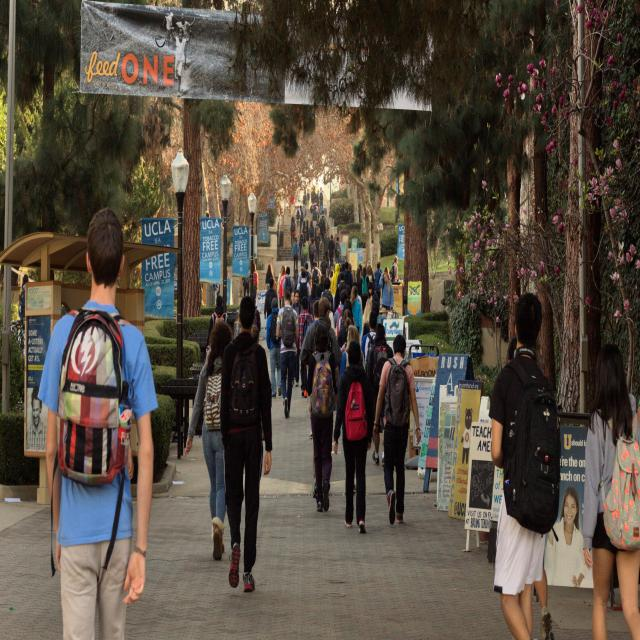body: (35, 202, 159, 640), (487, 289, 563, 640), (581, 339, 640, 640), (218, 295, 273, 595), (184, 320, 233, 562), (372, 331, 423, 529), (300, 296, 346, 499), (333, 339, 376, 539), (544, 486, 588, 588), (366, 321, 395, 470), (275, 288, 300, 421), (336, 256, 400, 296), (525, 563, 556, 640), (264, 296, 284, 399), (338, 324, 366, 394), (295, 296, 314, 397), (26, 385, 48, 451), (206, 294, 229, 356), (234, 296, 261, 342), (291, 290, 303, 388), (361, 311, 378, 374), (18, 274, 29, 352), (336, 308, 354, 350), (333, 290, 352, 328), (379, 270, 394, 316), (360, 298, 372, 352), (350, 285, 362, 338), (264, 277, 278, 322), (321, 292, 336, 334), (338, 298, 356, 332), (296, 270, 312, 306), (321, 277, 335, 318), (282, 266, 295, 307), (199, 279, 220, 304), (305, 300, 319, 336), (360, 267, 370, 316), (373, 262, 382, 313), (500, 340, 520, 362), (331, 263, 340, 311), (311, 286, 322, 322), (277, 265, 285, 310), (278, 265, 286, 307), (313, 228, 321, 270), (291, 237, 300, 274), (312, 451, 318, 502), (311, 261, 322, 288), (288, 216, 297, 248), (308, 282, 317, 314), (323, 229, 330, 270), (301, 237, 309, 271), (388, 255, 398, 282), (318, 215, 326, 248), (367, 282, 379, 304), (264, 264, 274, 290), (308, 238, 316, 270), (343, 261, 353, 286), (304, 262, 312, 292), (334, 237, 342, 264), (320, 254, 329, 278), (253, 263, 258, 305), (310, 199, 320, 220), (298, 234, 304, 268), (328, 234, 335, 263), (295, 205, 301, 237), (297, 266, 308, 283), (372, 296, 382, 314), (318, 187, 324, 216), (172, 250, 178, 279), (311, 207, 319, 228), (294, 271, 302, 292), (242, 277, 250, 297), (299, 205, 304, 237), (635, 397, 640, 427), (289, 192, 295, 216), (308, 220, 314, 243), (328, 258, 336, 274), (301, 200, 307, 221), (318, 274, 325, 292), (329, 269, 334, 293), (289, 190, 295, 210), (314, 223, 321, 240), (204, 206, 211, 223), (302, 190, 308, 208), (320, 210, 327, 225), (293, 267, 299, 284), (290, 290, 296, 306), (302, 235, 308, 251), (306, 189, 310, 211), (302, 220, 307, 237), (311, 188, 316, 204), (306, 220, 310, 234), (310, 262, 315, 273), (316, 190, 319, 204), (321, 188, 325, 196)
